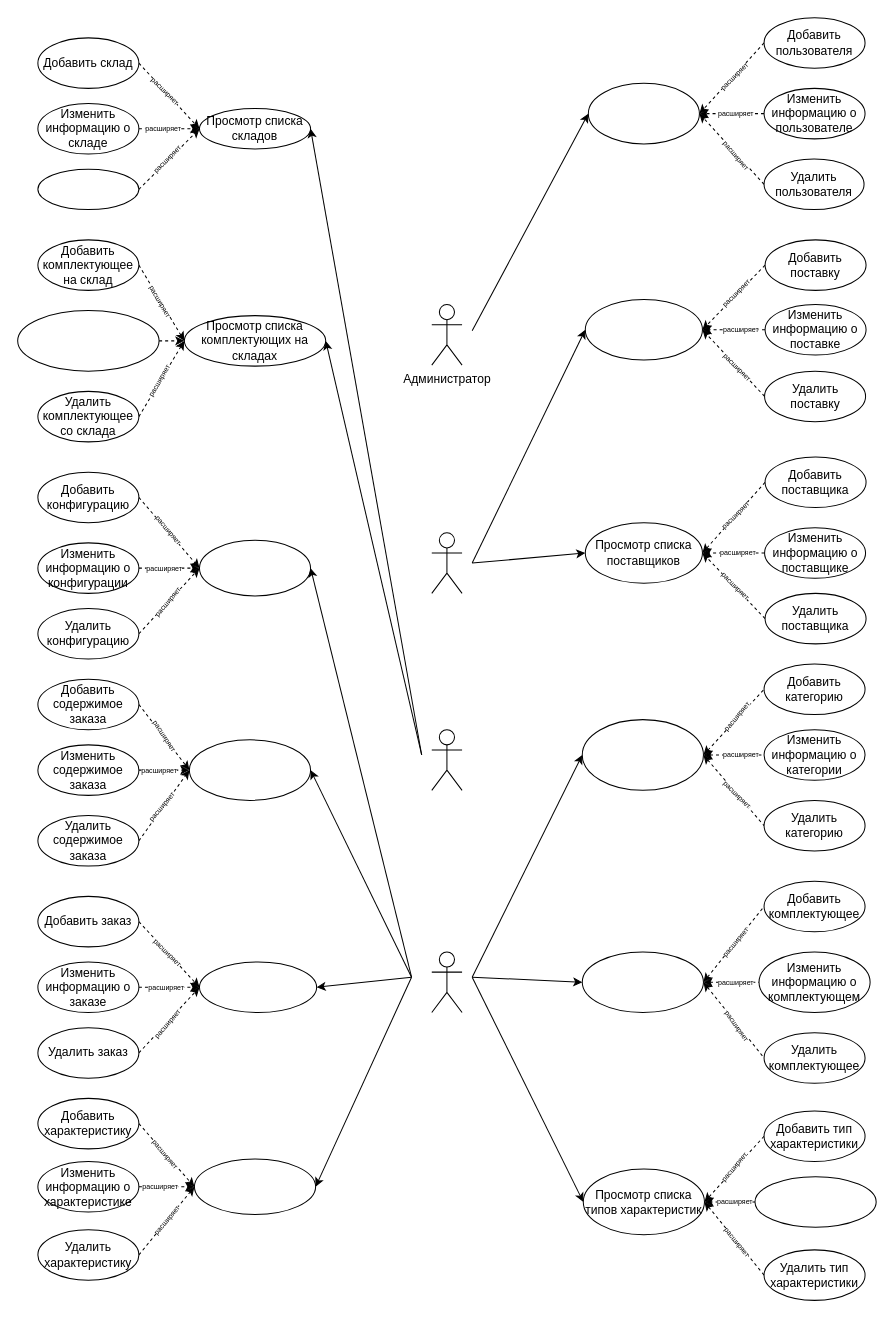
The diagram is 894 pixels wide and 1318 high, and some of its shapes have lost their labels. The shapes that lost their labels are listed below. From the top down, each one's box as (x1, y1, x2, y2) in pixels, then its label:
(587, 82, 699, 144): Просмотр списка пользователей
(37, 168, 139, 210): Удалить склад
(17, 310, 159, 371): Изменить данные о комплектующем на складе
(584, 298, 702, 360): Просмотр списка поставок
(198, 539, 311, 596): Просмотр списка конфигураций
(431, 532, 462, 593): Менеджер по закупкам
(188, 739, 311, 800): Просмотр списка содержимого заказов
(431, 729, 462, 790): Работник склада
(581, 719, 703, 790): Просмотр списка категорий комплектующих
(198, 961, 317, 1013): Просмотр списка заказов
(431, 951, 462, 1013): Консультант
(581, 951, 703, 1013): Просмотр списка комплектующих
(193, 1158, 316, 1215): Просмотр списка характеристик комплектующих
(754, 1176, 876, 1227): Изменить информацию о типе характеристики
